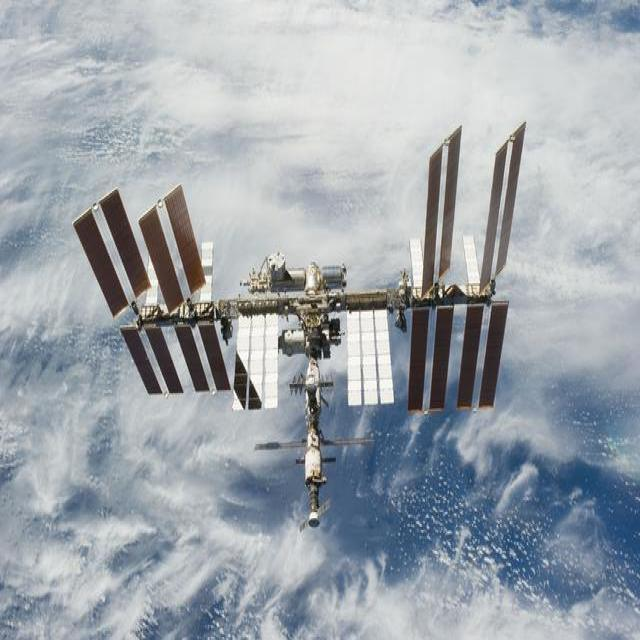medium_debris: (72, 122, 526, 530)
